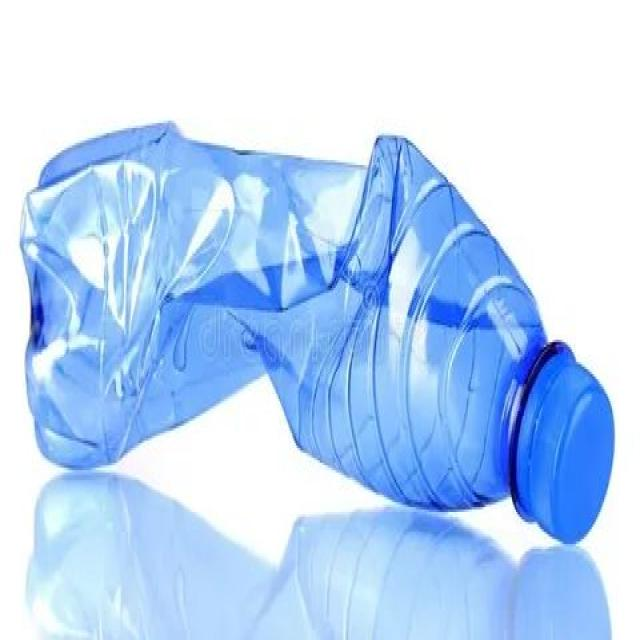blue: (20, 120, 548, 505)
